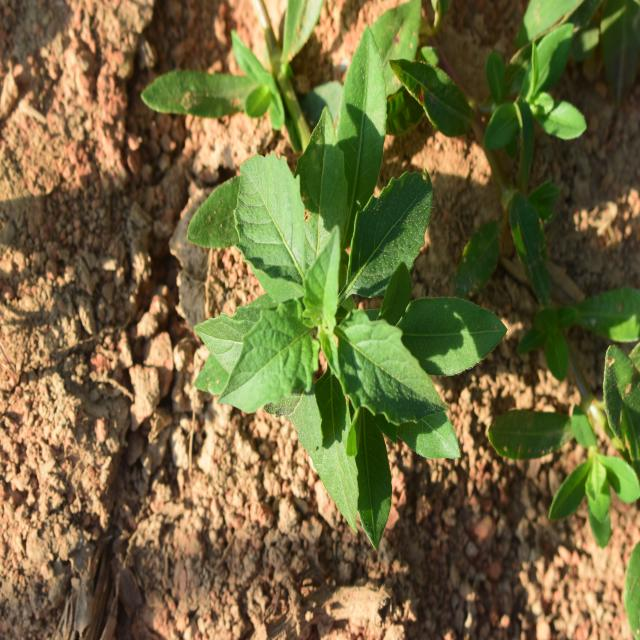Black_nightshade: (209, 145, 464, 487)
